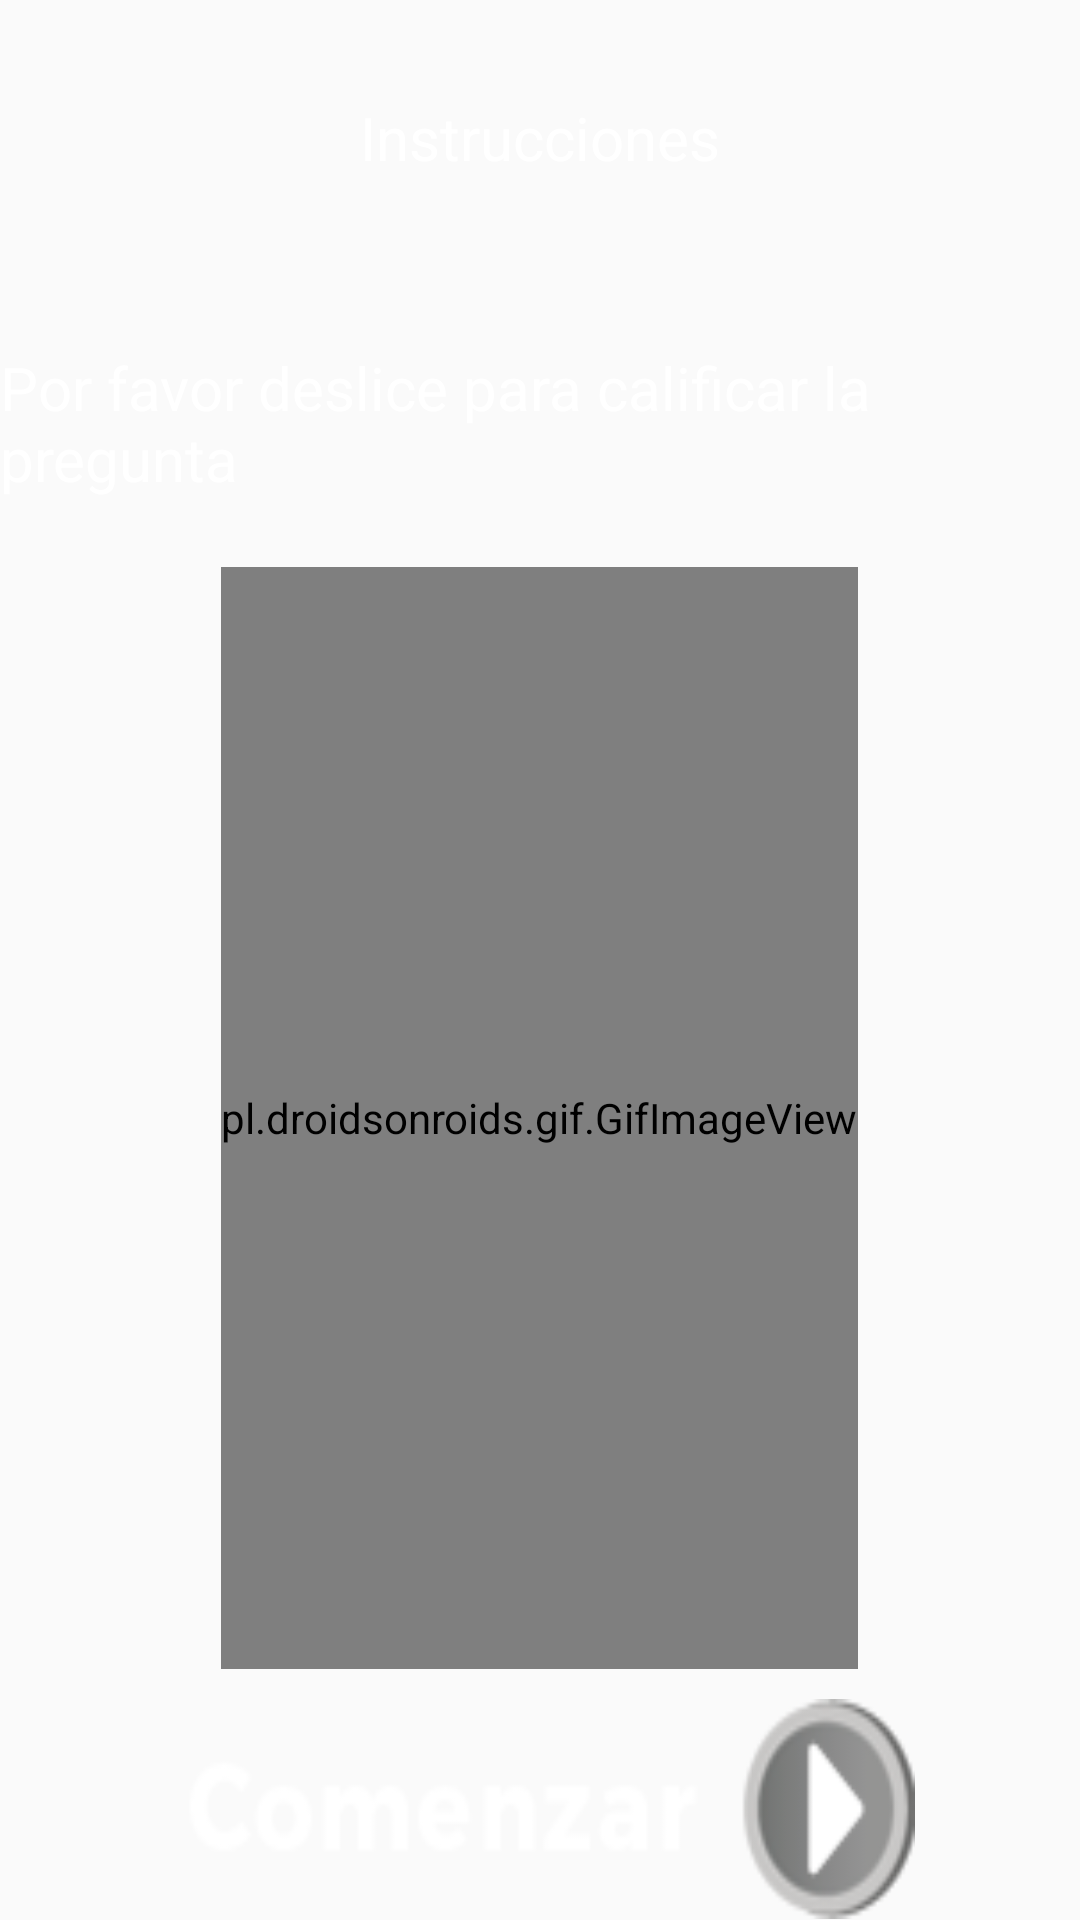

Where icons sit on this 1080 × 1920 app screen, as (x1, y1, x2, y2):
iniciar: (744, 1699, 915, 1919)
